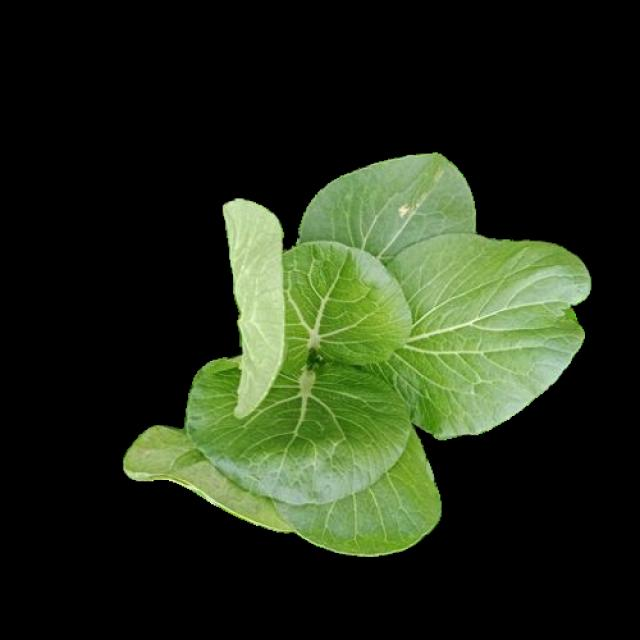mature: (127, 154, 586, 553)
unhealthy: (301, 150, 472, 247)
